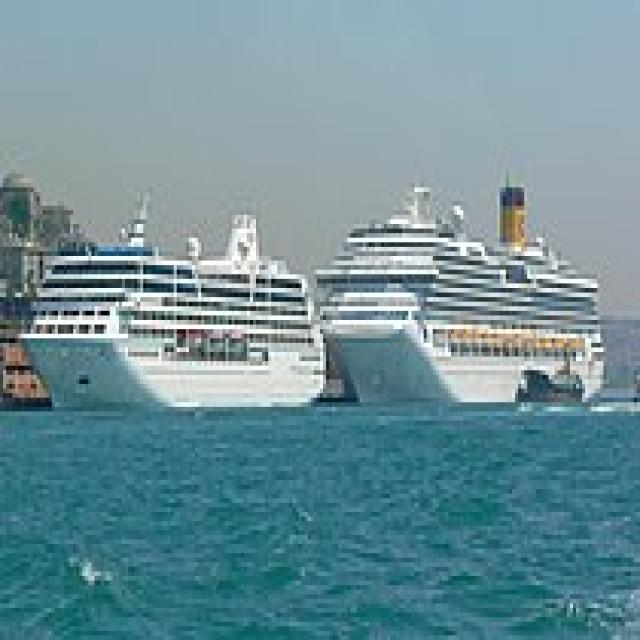Cruise: (9, 178, 326, 416), (308, 174, 603, 416)
